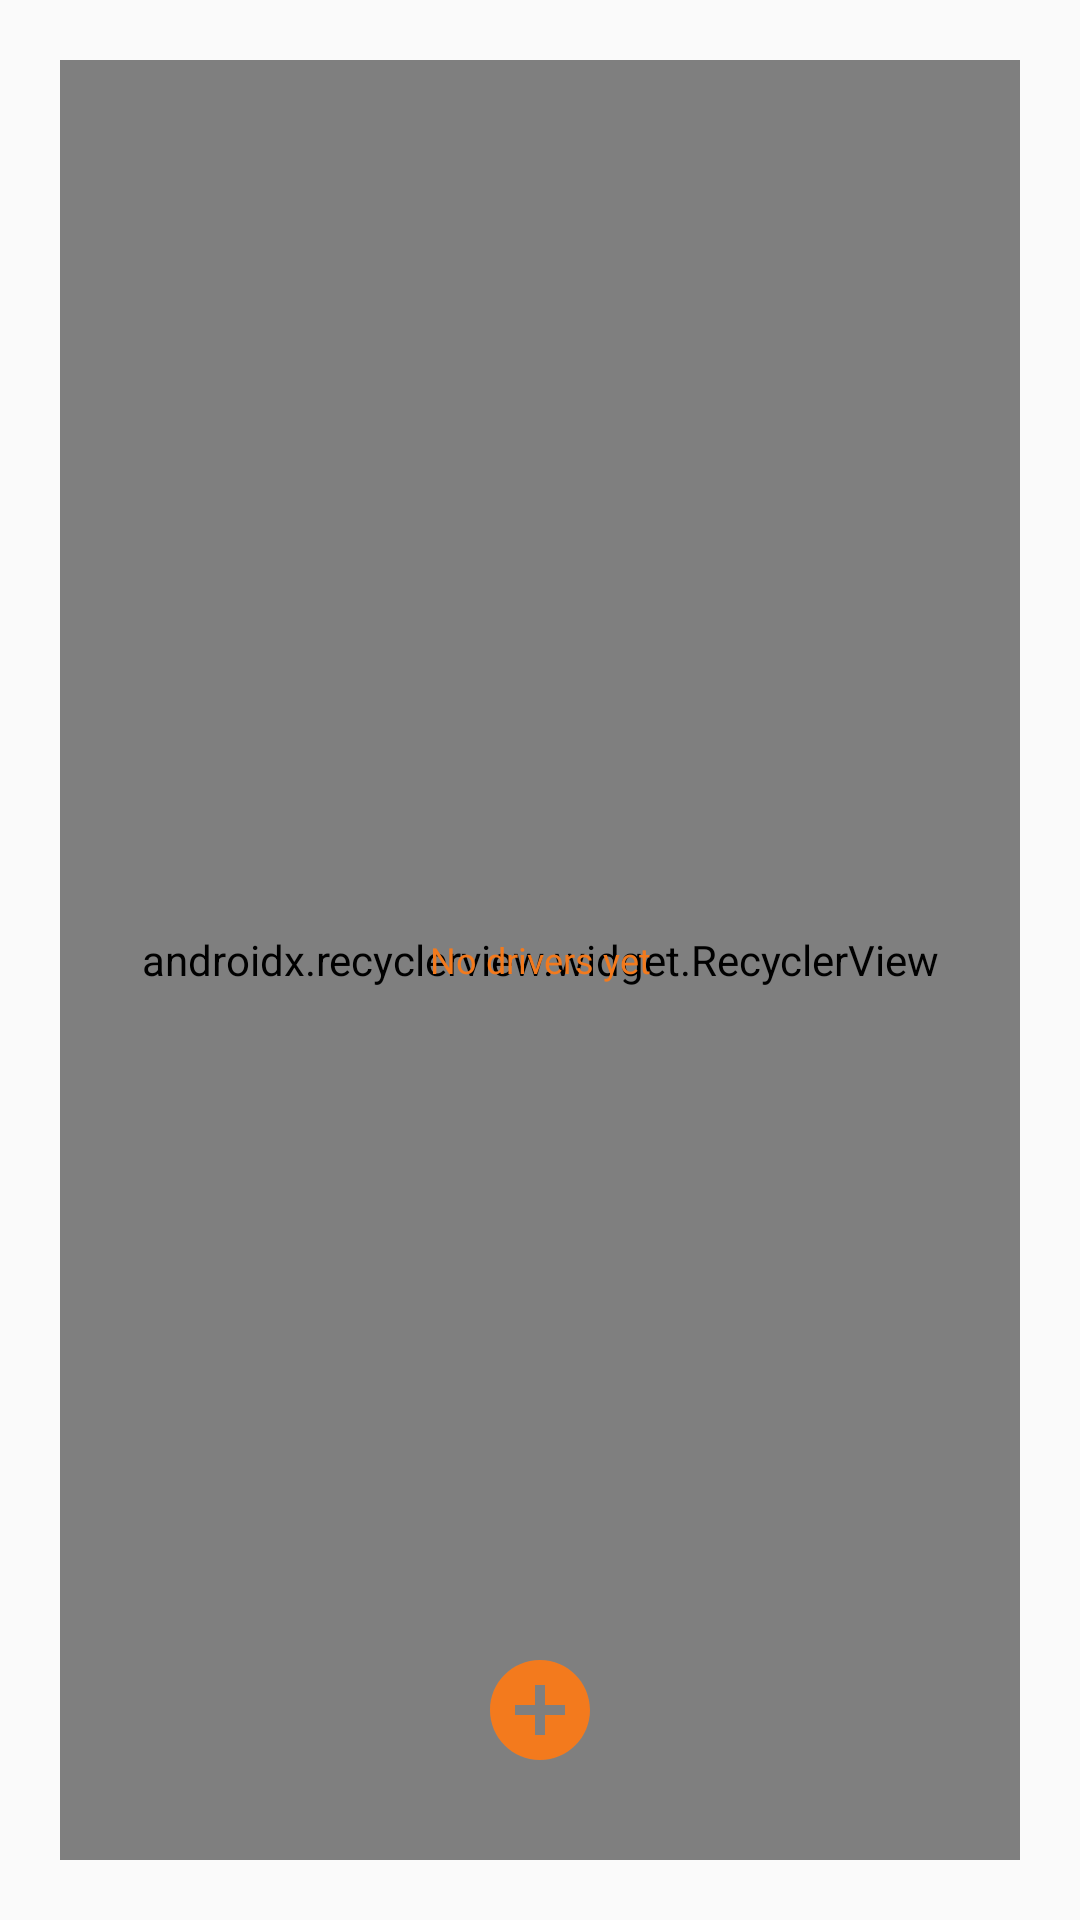

Where icons sit on this 1080×1920 app screen, as {"x1": x1, "y1": y1, "x2": x2, "y2": y2}:
add: {"x1": 490, "y1": 1660, "x2": 590, "y2": 1760}
